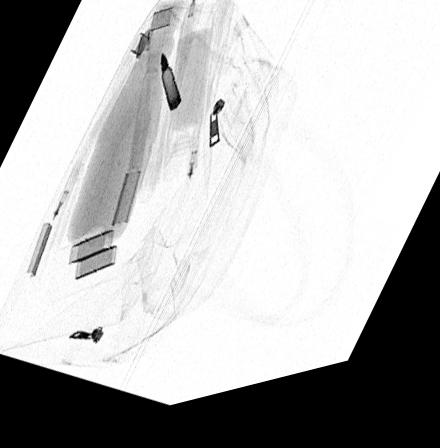Bullet: (159, 60, 181, 119)
